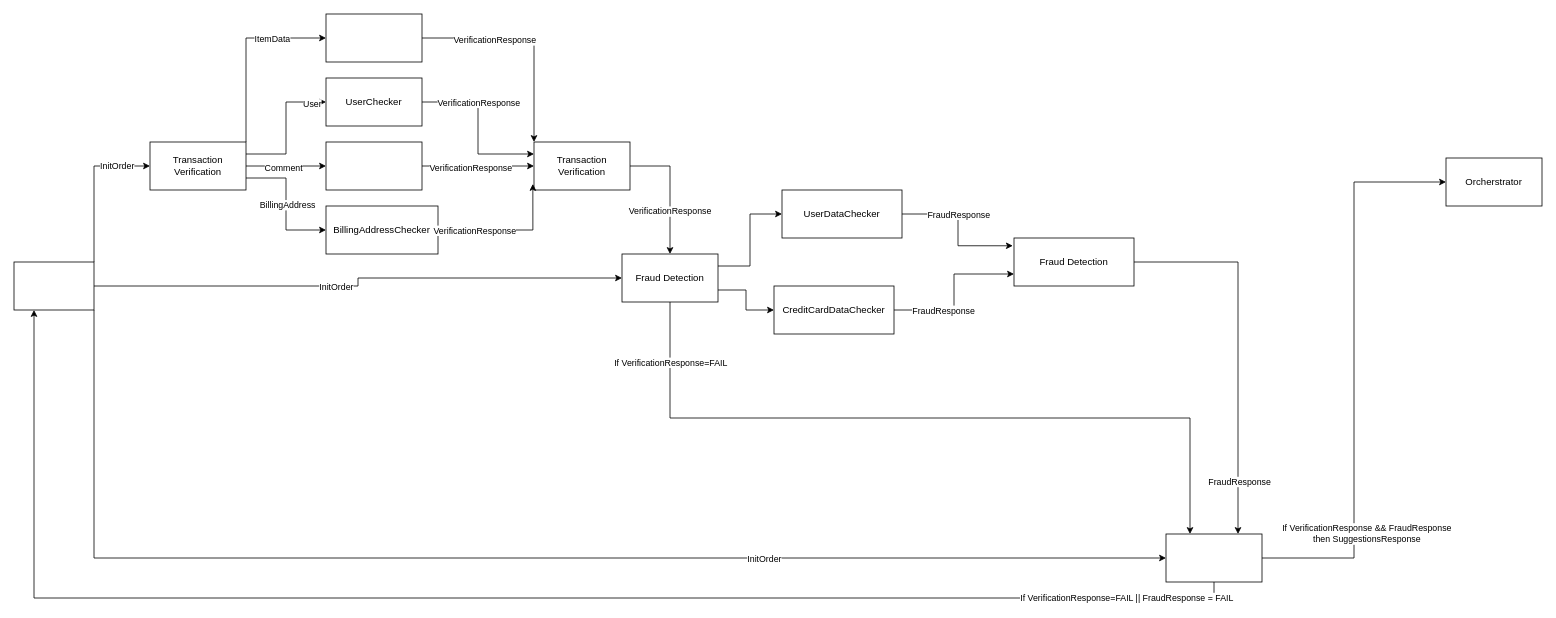
This 1556x618 diagram has some shape labels left out. Each missing label, with the centre of its shape:
"CommentChecker" belongs at pixel 373 165.
"ItemDataChecker" belongs at pixel 373 37.
"Orchestrator" belongs at pixel 53 285.
"Suggestions" belongs at pixel 1213 557.
